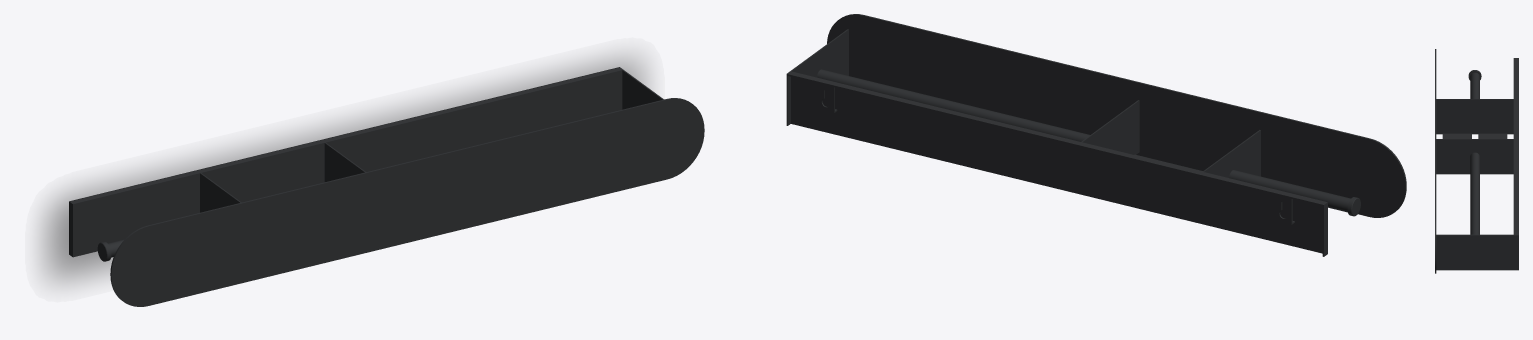
File: round-trio.b65a793971.ar.glb
The picture shows the model from 3 angles, left to right: view 1: azimuth 30°, elevation 25°; view 2: azimuth 150°, elevation 25°; view 3: azimuth 270°, elevation 25°; orthographic projection. The views are drawn at different scales.
Visible parts, largest first — view 1: NAUO1, object 2; view 2: NAUO1; view 3: NAUO1.
Boxes of the visible parts, <box> form: NAUO1: <box>69,67,704,306</box>; object 2: <box>41,56,647,283</box>; NAUO1: <box>786,14,1406,256</box>; NAUO1: <box>1435,49,1518,273</box>.
Bounding box in the file's own units: 0.78 × 0.17 × 0.13.
2 materials, 1 textured.
